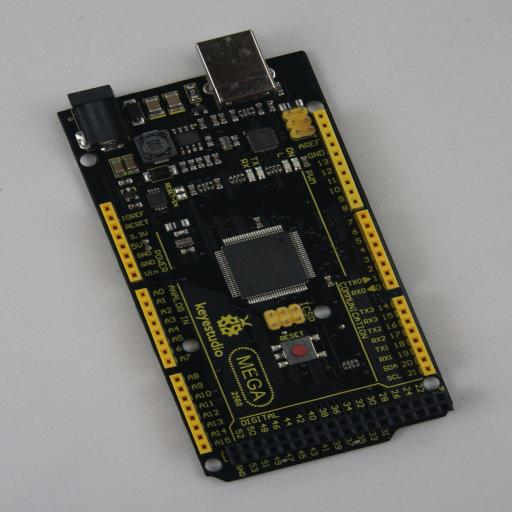Arduino Mega 2560 -Black and Yellow-: (57, 30, 454, 482)
